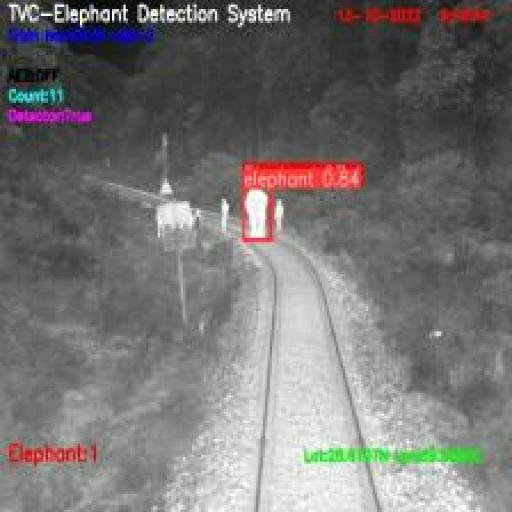Elephant: (245, 187, 272, 240)
